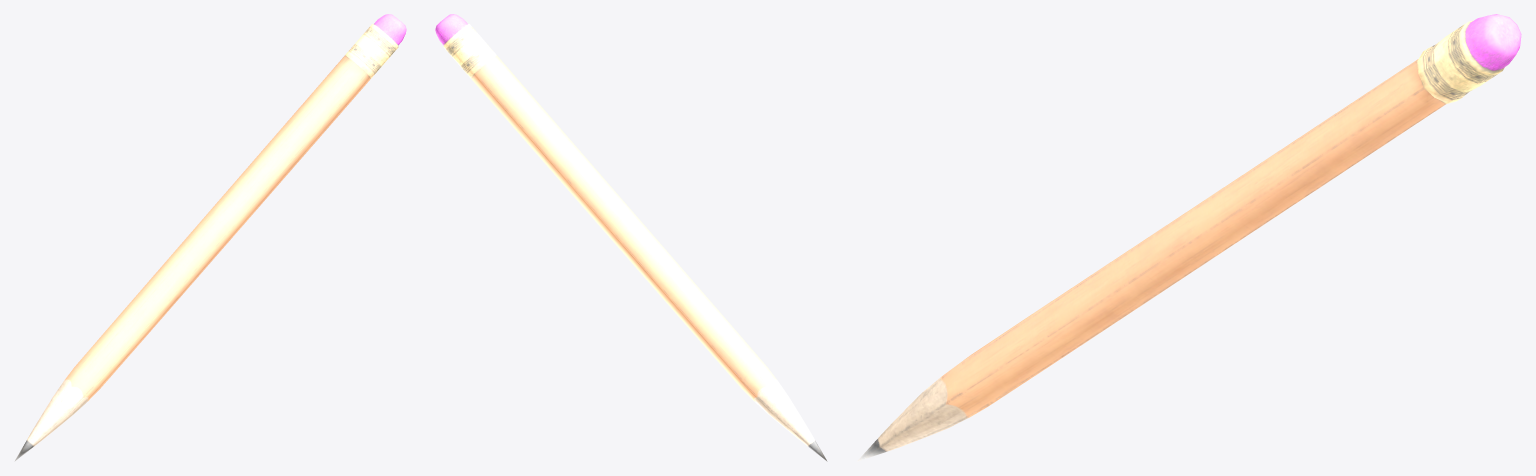
The picture shows the model from 3 angles, left to right: view 1: azimuth 30°, elevation 25°; view 2: azimuth 150°, elevation 25°; view 3: azimuth 330°, elevation 25°; orthographic projection. The views are drawn at different scales.
Visible parts, largest first — view 1: g; view 2: g; view 3: g.
Boxes of the visible parts, bbox=[...] form: g: bbox=[14, 14, 406, 461]; g: bbox=[435, 14, 827, 461]; g: bbox=[857, 14, 1521, 461].
Bounding box in the file's own units: 3.37 × 2.93 × 0.267.
